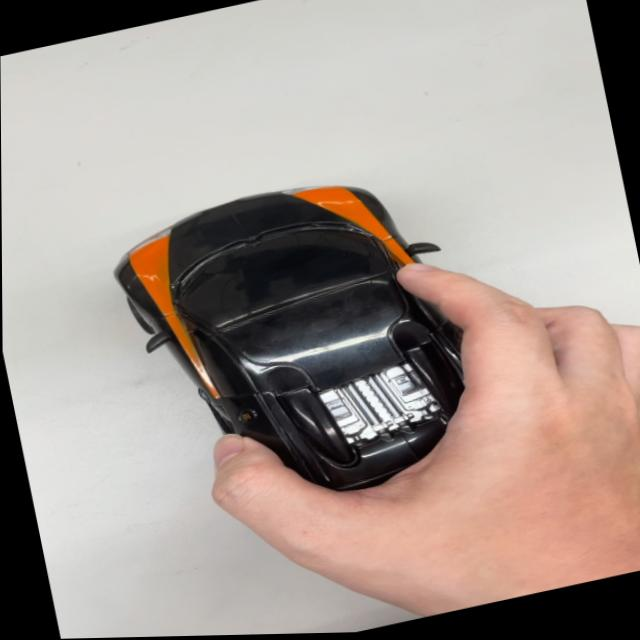vehicle_body: (102, 149, 507, 533)
